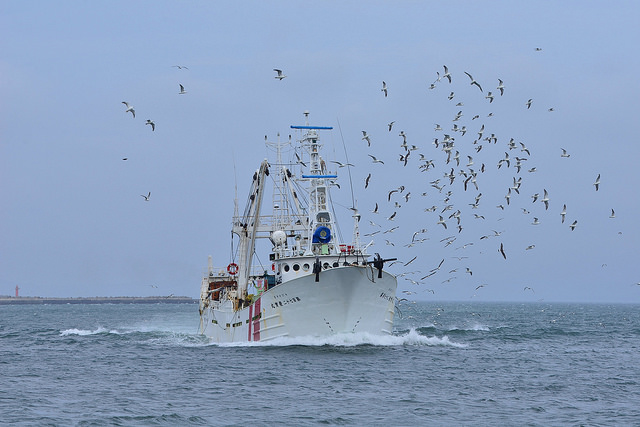fishing_boat: (190, 109, 407, 348)
